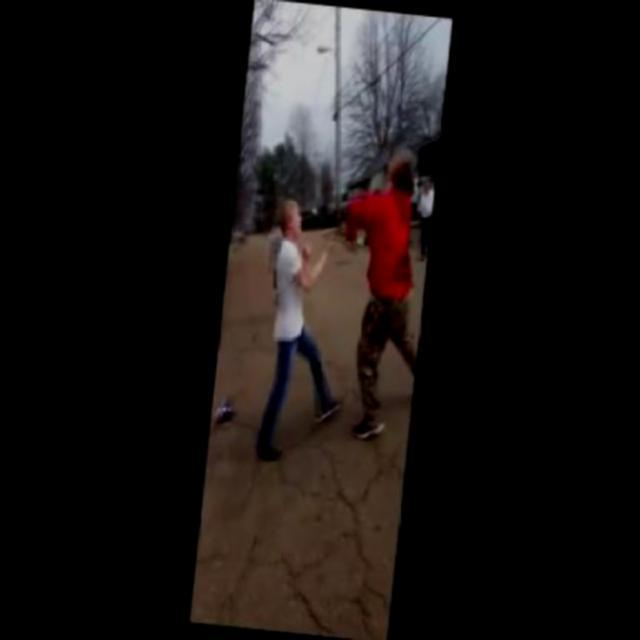fight: (272, 138, 426, 347)
